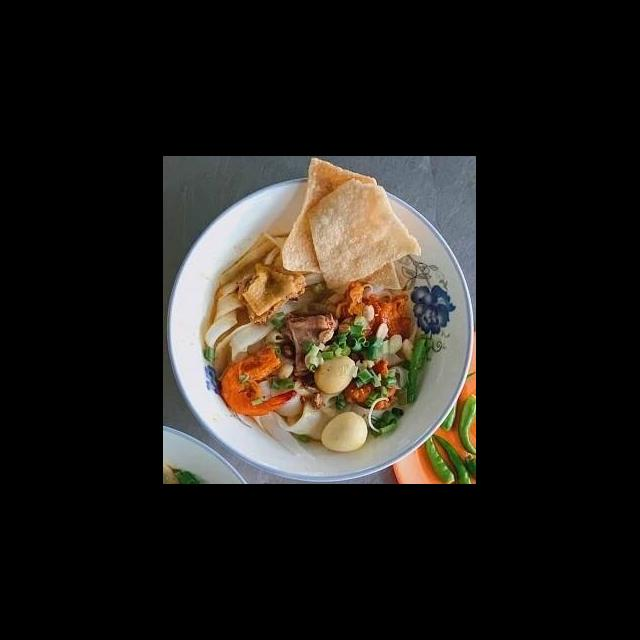banh da: (280, 157, 404, 295), (304, 176, 424, 292)
mi: (202, 241, 326, 371), (244, 379, 342, 465)
thit ga: (230, 256, 310, 328)
tom: (213, 344, 300, 419)
trung: (319, 409, 372, 456), (312, 352, 358, 396)
